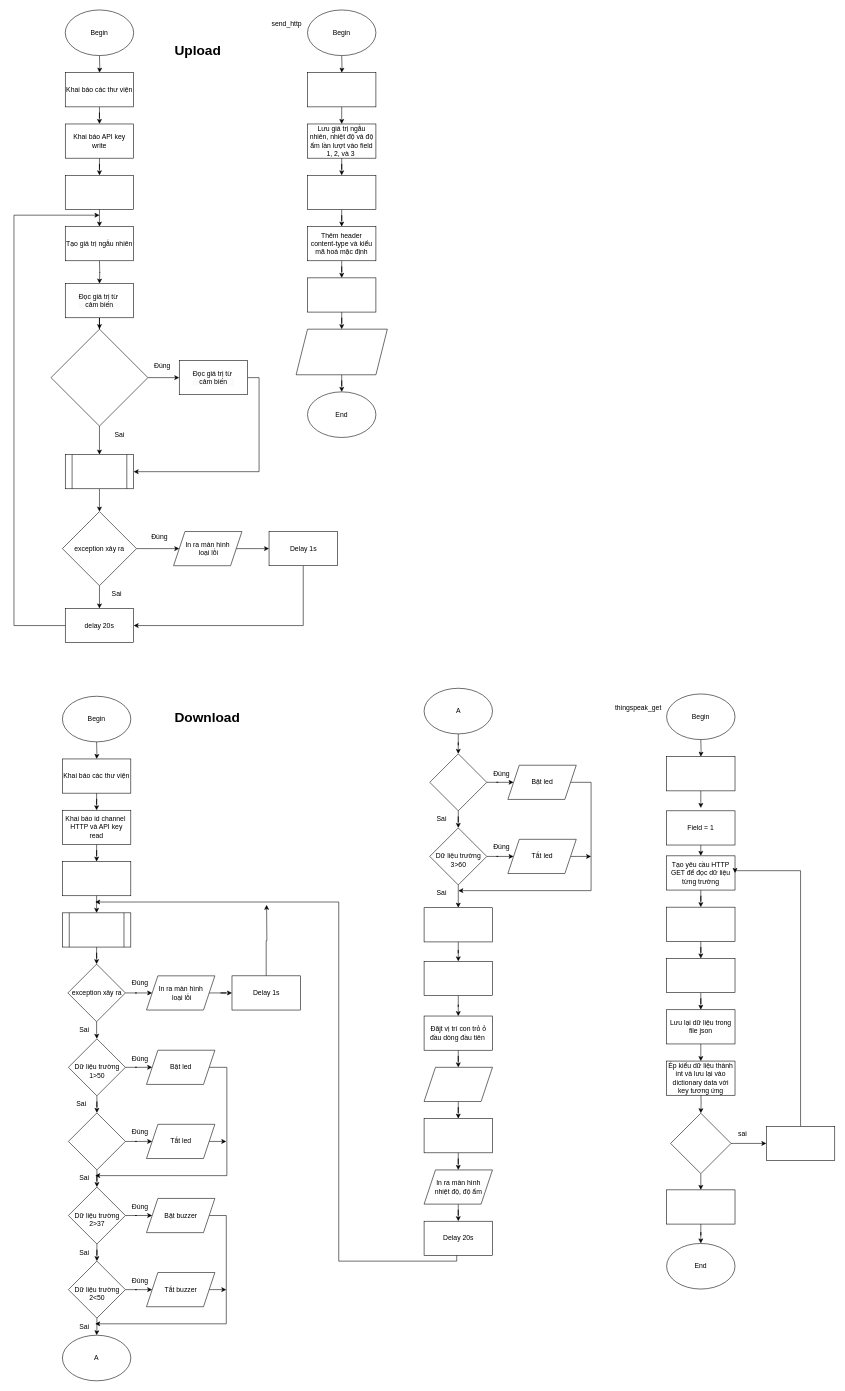
Image size: 845x1391. Some labels were removed from this diagram. The shapes that lost their labels are listed below. From the top down, each one's centre as x and y in pixels, then its label:
At point (341, 89): "Khai báo địa chỉ url".
At point (99, 192): "Khai báo chân module cảm biến độ ẩm".
At point (341, 192): "Tạo yêu cầu gửi dữ liệu lên Thingspeak thông qua HTTP".
At point (341, 294): "Thêm header API key của Thingspeak".
At point (341, 352): "Gửi dữ liệu đã được đóng gói lên Thingspeak và lưu phản hồi".
At point (99, 377): "nhiệt độ<=0 hoặc rỗng Hoặc độ ẩm<=0 hoặc rỗng".
At point (99, 471): "try send_http".
At point (458, 782): "Dữ liệu trường 3>90".
At point (700, 773): "Lưu id channel và API key read".
At point (96, 878): "Khai báo chân module buzzer, led, relay, LCD".
At point (96, 929): "try thingspeakget".
At point (458, 924): "Xoá màn hình LCD".
At point (700, 924): "Gửi yêu cầu lên thingspeak để nhận phản hồi".
At point (458, 978): "Delay 0.5s".
At point (700, 975): "Đọc và giải mã dữ liệu từ phản hồi".
At point (458, 1084): "In ra màn hình giá trị ngẫu nhiên".
At point (96, 1141): "Dữ liệu trường 1<50".
At point (458, 1135): "Đặt vị trí con trỏ ở đầu dòng thứ 2".
At point (700, 1143): "field >4?".
At point (800, 1143): "Field++".
At point (700, 1206): "Trả về dữ liệu thu thập được".
